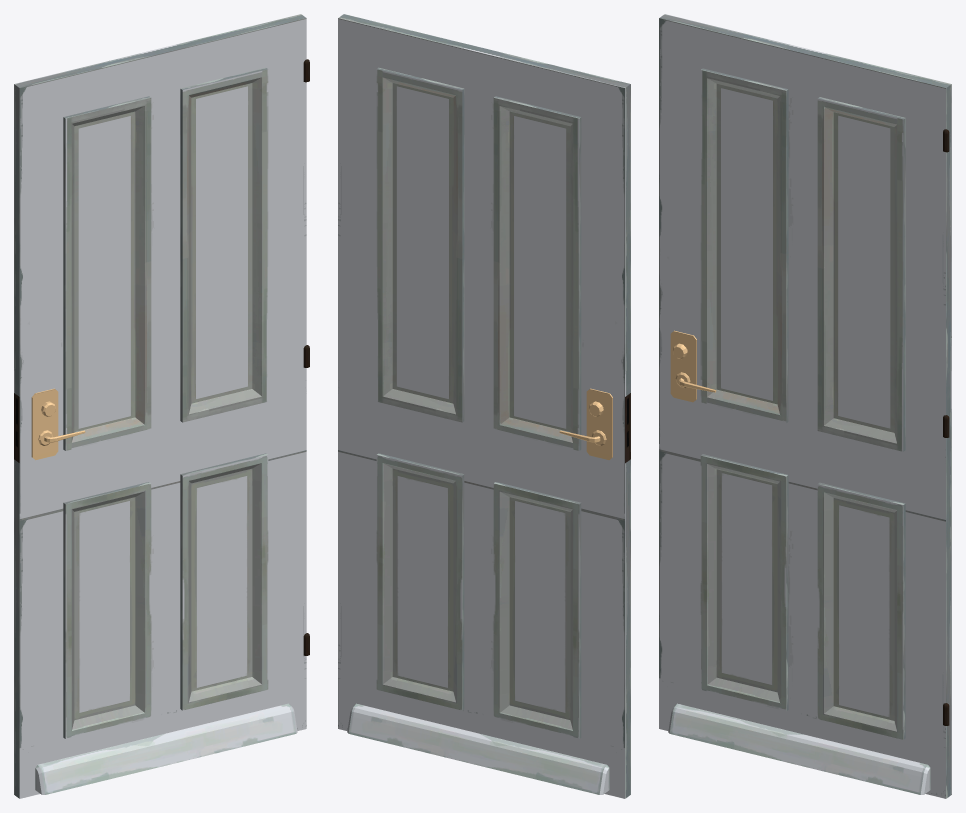
File: PuertaB2_Fachada.obj
The picture shows the model from 3 angles, left to right: view 1: azimuth 30°, elevation 25°; view 2: azimuth 150°, elevation 25°; view 3: azimuth 330°, elevation 25°; orthographic projection.
Parts seen in each view (by area): view 1: PuertaB2_Fachada; view 2: PuertaB2_Fachada; view 3: PuertaB2_Fachada.
Boxes of the visible parts, x1,y1,x2,y2 form: PuertaB2_Fachada: (14,14,309,798); PuertaB2_Fachada: (338,14,630,798); PuertaB2_Fachada: (659,14,951,798).
Size of the model in its own units: 1.18 by 2.76 by 0.1469.
2 materials, 2 textured.
